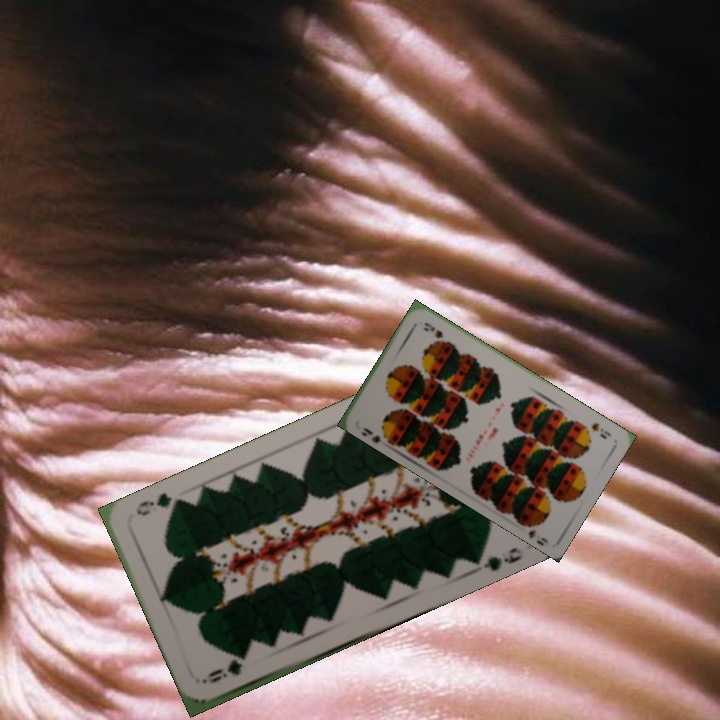G9: (201, 653, 252, 686)
S9: (358, 423, 393, 445), (588, 419, 613, 441)
